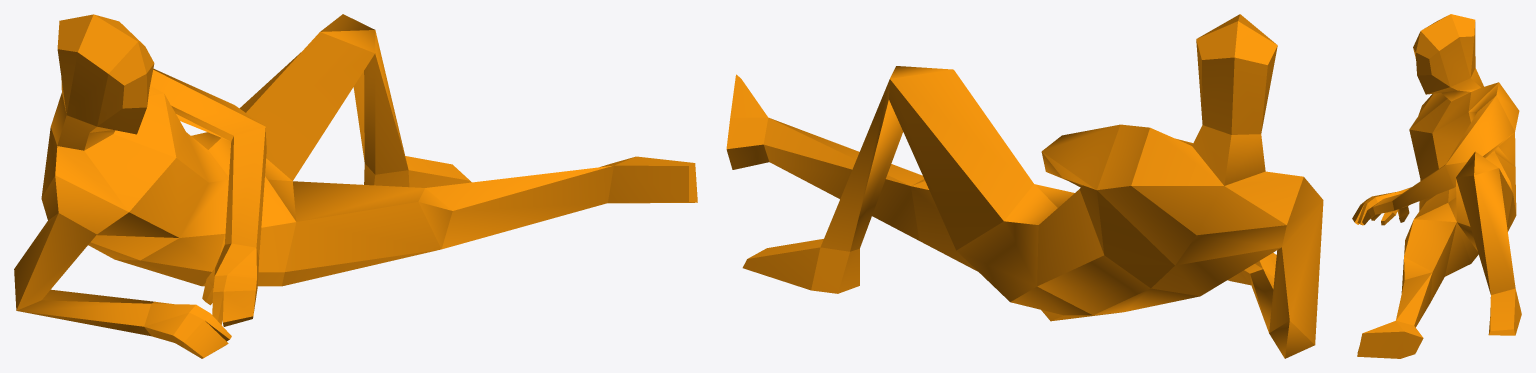
File: Human05.fbx
3 renders of one model, left to right at view 1: azimuth 30°, elevation 25°; view 2: azimuth 150°, elevation 25°; view 3: azimuth 270°, elevation 25°, orthographic. The views are drawn at different scales.
Visible parts, largest first — view 1: Human05; view 2: Human05; view 3: Human05.
Boxes of the visible parts, bbox=[...] form: Human05: bbox=[14, 14, 697, 358]; Human05: bbox=[726, 14, 1323, 358]; Human05: bbox=[1352, 14, 1521, 358].
Bounding box in the file's own units: 154 × 76.05 × 57.24.
